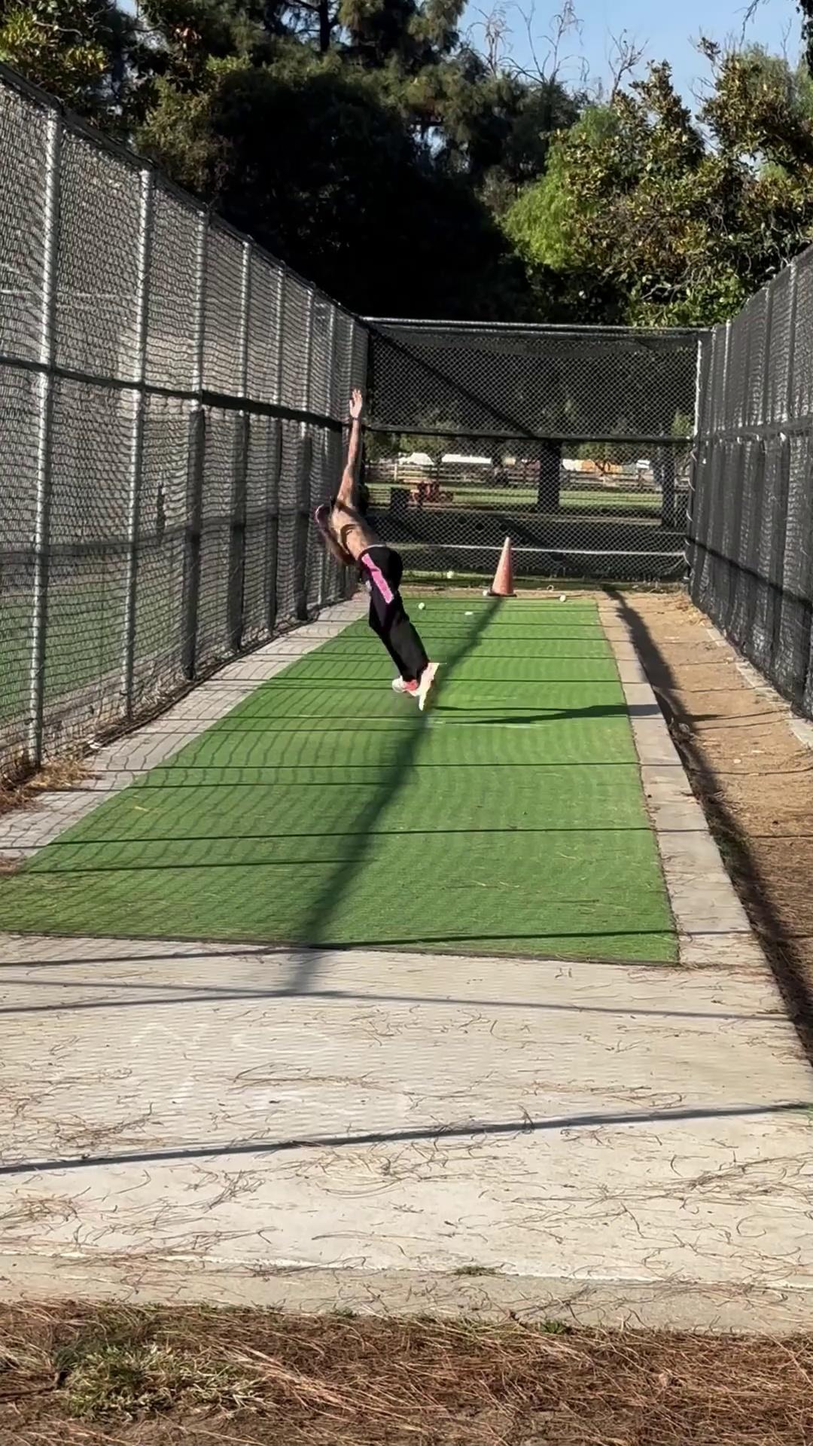ball: (442, 565, 462, 584)
